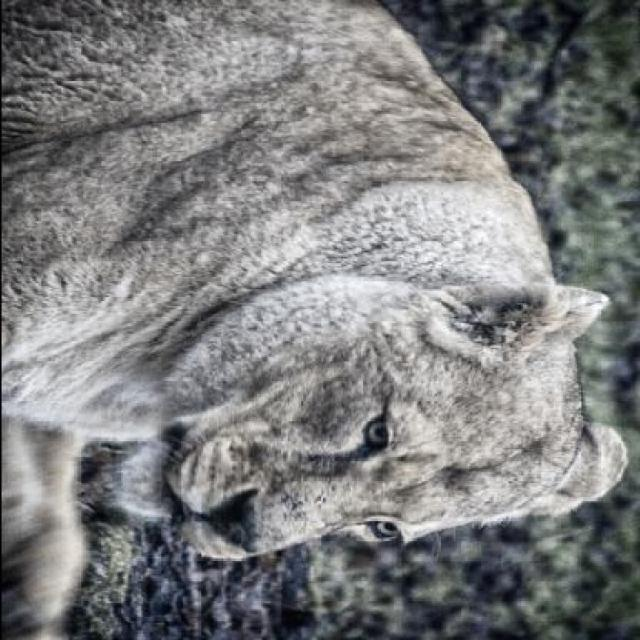Lion: (1, 1, 632, 578)
